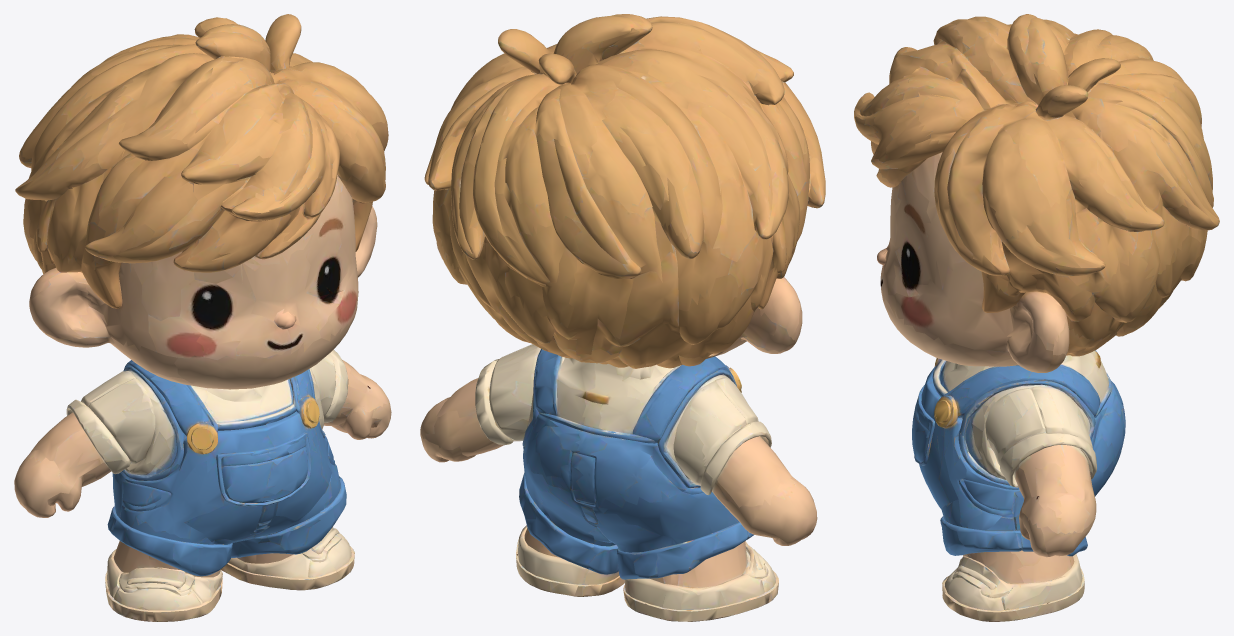
File: upm_mv3pqn5o5kr.glb
3 renders of one model, left to right at view 1: azimuth 30°, elevation 25°; view 2: azimuth 150°, elevation 25°; view 3: azimuth 270°, elevation 25°, orthographic. The views are drawn at different scales.
Bounding box in the file's own units: 1.35 × 1.9 × 1.15.
1 material, 1 textured.
